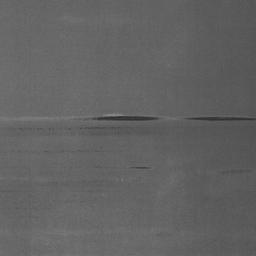Crease: (93, 116, 158, 121), (190, 117, 256, 121)
